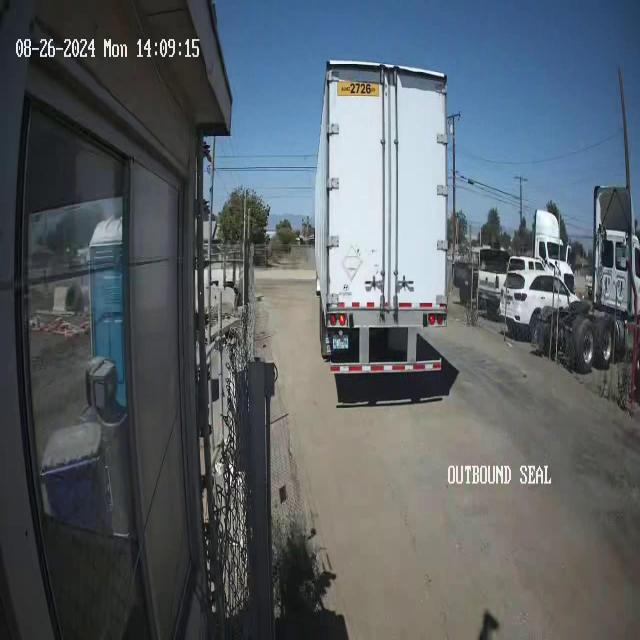TRUCK_IN: (313, 59, 451, 367)
